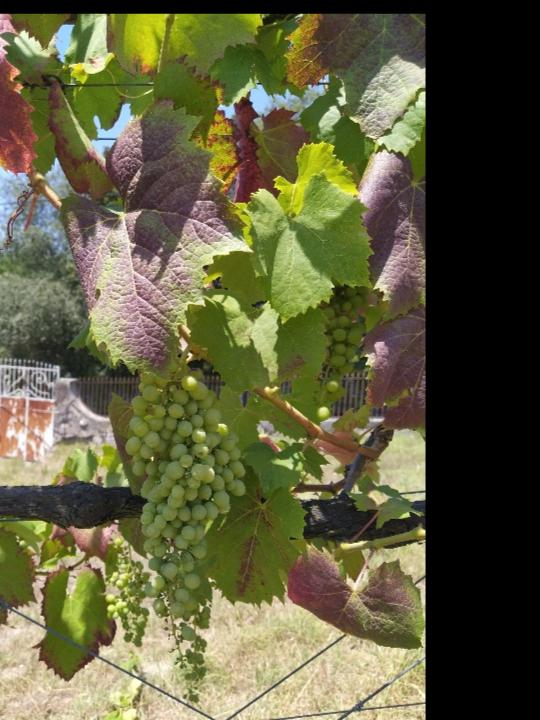grape: (127, 357, 250, 710), (98, 538, 160, 651)
